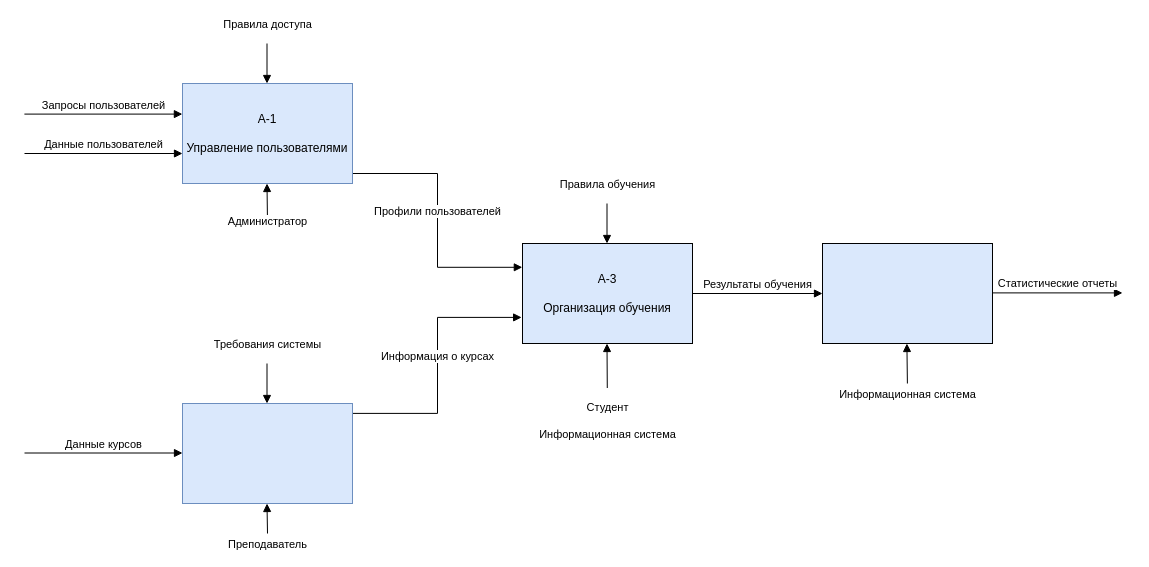
The diagram is 1149 pixels wide and 567 high, and some of its shapes have lost their labels. Each missing label, with the box of its shape:
A-2 Управление курсами: (182, 402, 352, 504)
A-4 Формирование статистики: (822, 242, 992, 344)
